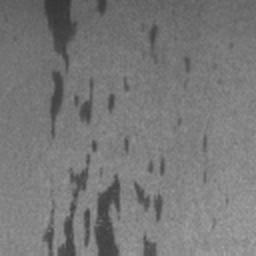Red iron sheet: (40, 138, 166, 256), (42, 0, 131, 142), (148, 23, 159, 64), (142, 232, 159, 256), (93, 0, 109, 17), (183, 56, 193, 73), (201, 134, 209, 151), (124, 136, 131, 151)
